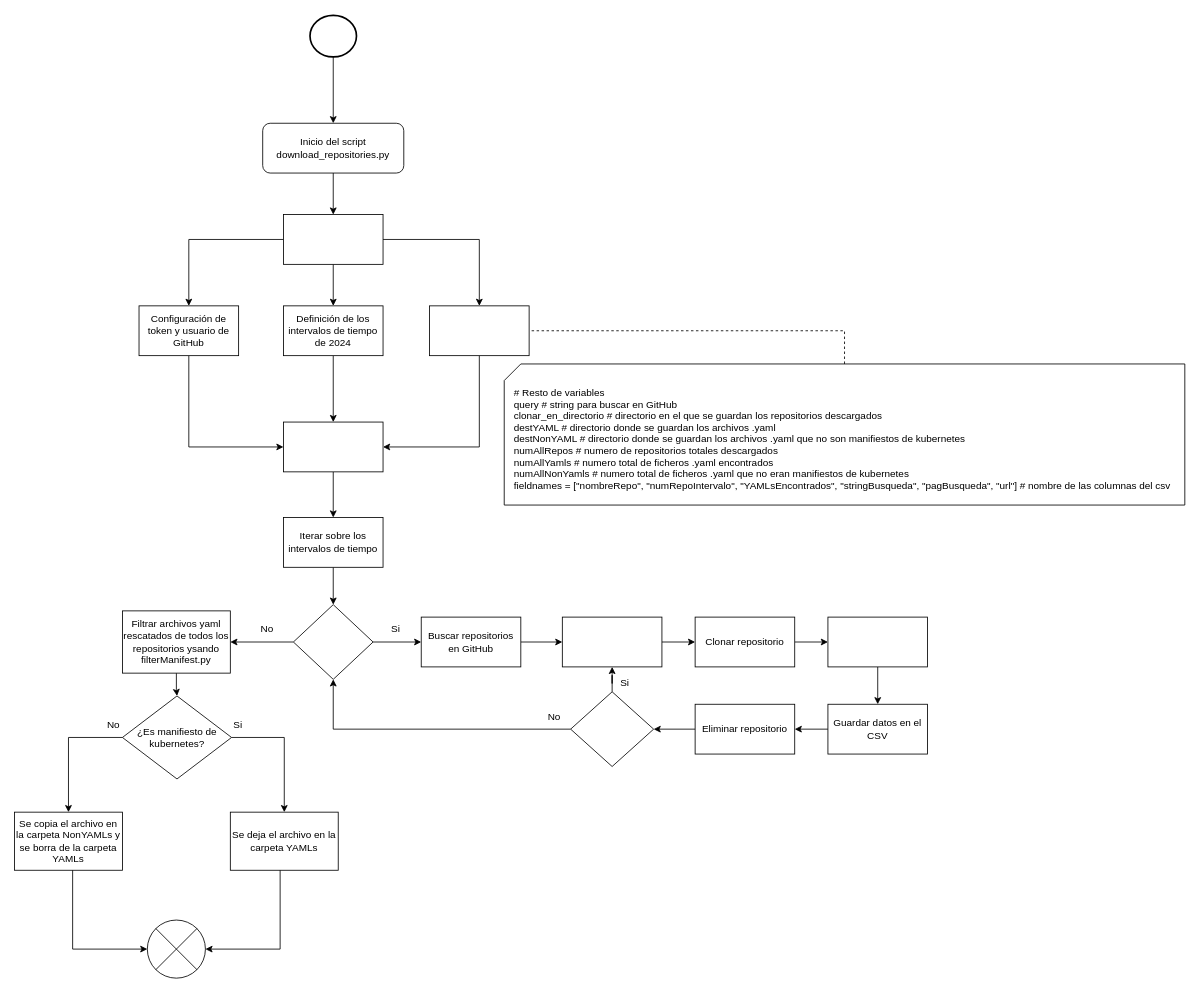
Some shapes in this 1199 by 993 pixel diagram are drawn without their labels. Here are the shapes that lost their labels. From the top down, the centre of each, then its label:
At point 333,239: "Configuración de variables".
At point 479,330: "Definición de resto de variables necesarias".
At point 333,446: "Crear archivo CSV".
At point 333,641: "¿Quedan intervalos?".
At point 611,641: "Iterar por cada repositorio de GitHub".
At point 877,641: "Buscar archivos yaml usando searchYAML.py".
At point 612,729: "¿Quedan repositorios?".
